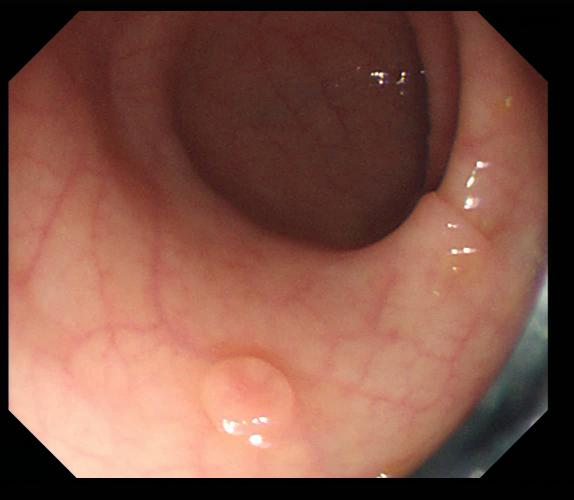polyp: (194, 353, 300, 448)
